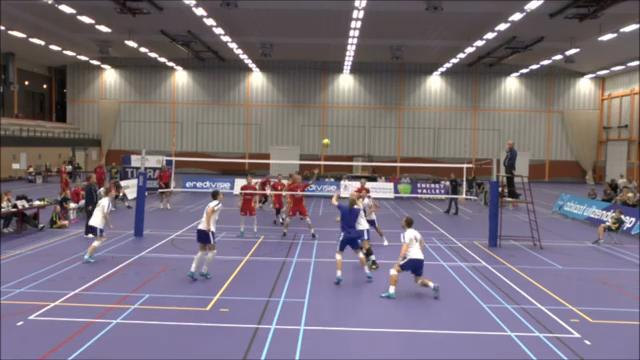Player: (381, 216, 439, 298), (188, 190, 222, 280), (282, 169, 318, 238), (84, 188, 114, 262), (353, 189, 378, 269), (361, 189, 388, 245), (238, 175, 257, 236), (271, 174, 285, 224), (258, 177, 270, 208), (282, 194, 290, 223), (355, 178, 369, 193)
Receive: (327, 189, 378, 287)
ball: (321, 137, 330, 148)
